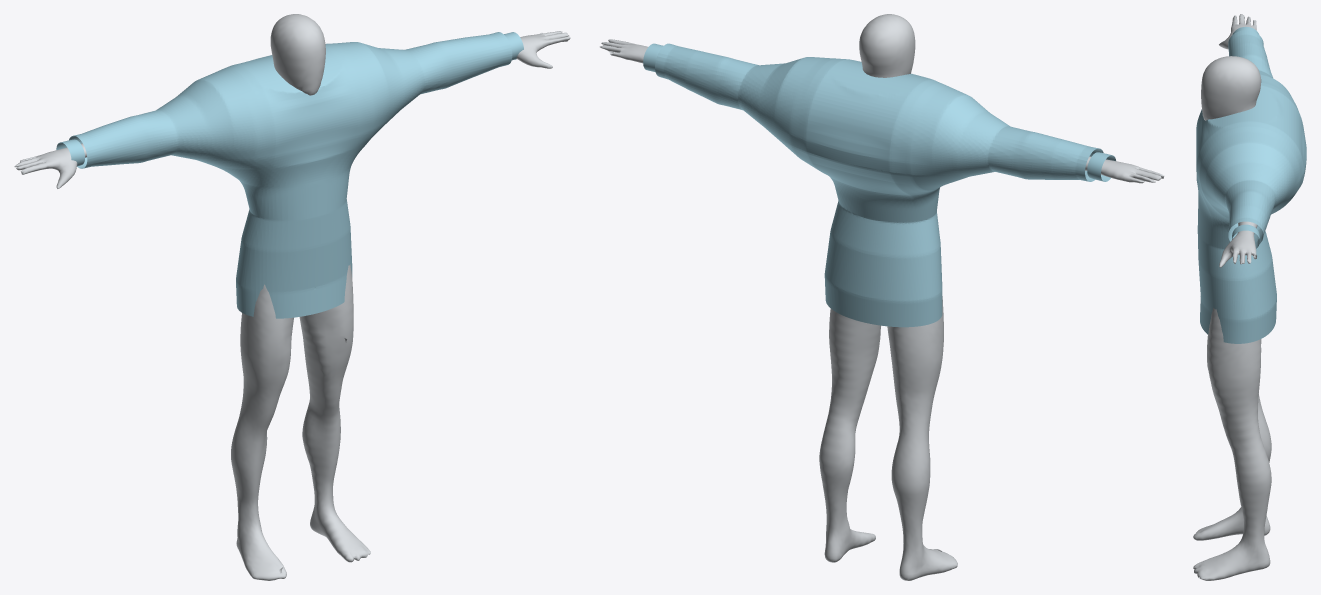
File: fit.glb
3 renders of one model, left to right at view 1: azimuth 30°, elevation 25°; view 2: azimuth 150°, elevation 25°; view 3: azimuth 270°, elevation 25°, orthographic. The views are drawn at different scales.
Parts seen in each view (by area): view 1: ATEL-23 Shirt v2.1, AtelierX_mannequin_180cm; view 2: ATEL-23 Shirt v2.1, AtelierX_mannequin_180cm; view 3: ATEL-23 Shirt v2.1, AtelierX_mannequin_180cm.
Part boxes in pixels (x1=…): ATEL-23 Shirt v2.1: x1=56, y1=32, x2=523, y2=318; AtelierX_mannequin_180cm: x1=14, y1=14, x2=570, y2=580; ATEL-23 Shirt v2.1: x1=643, y1=43, x2=1115, y2=327; AtelierX_mannequin_180cm: x1=600, y1=14, x2=1164, y2=580; ATEL-23 Shirt v2.1: x1=1196, y1=27, x2=1306, y2=343; AtelierX_mannequin_180cm: x1=1193, y1=14, x2=1271, y2=580.
Bounding box in the file's own units: 1.93 × 1.8 × 0.3725.
